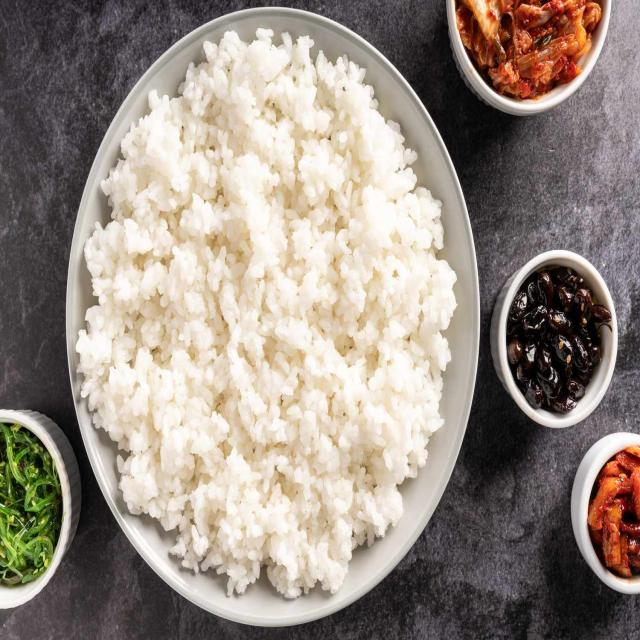Green veg: (0, 424, 61, 586)
Non green veg: (456, 0, 601, 99)
Rice: (77, 29, 457, 597)
